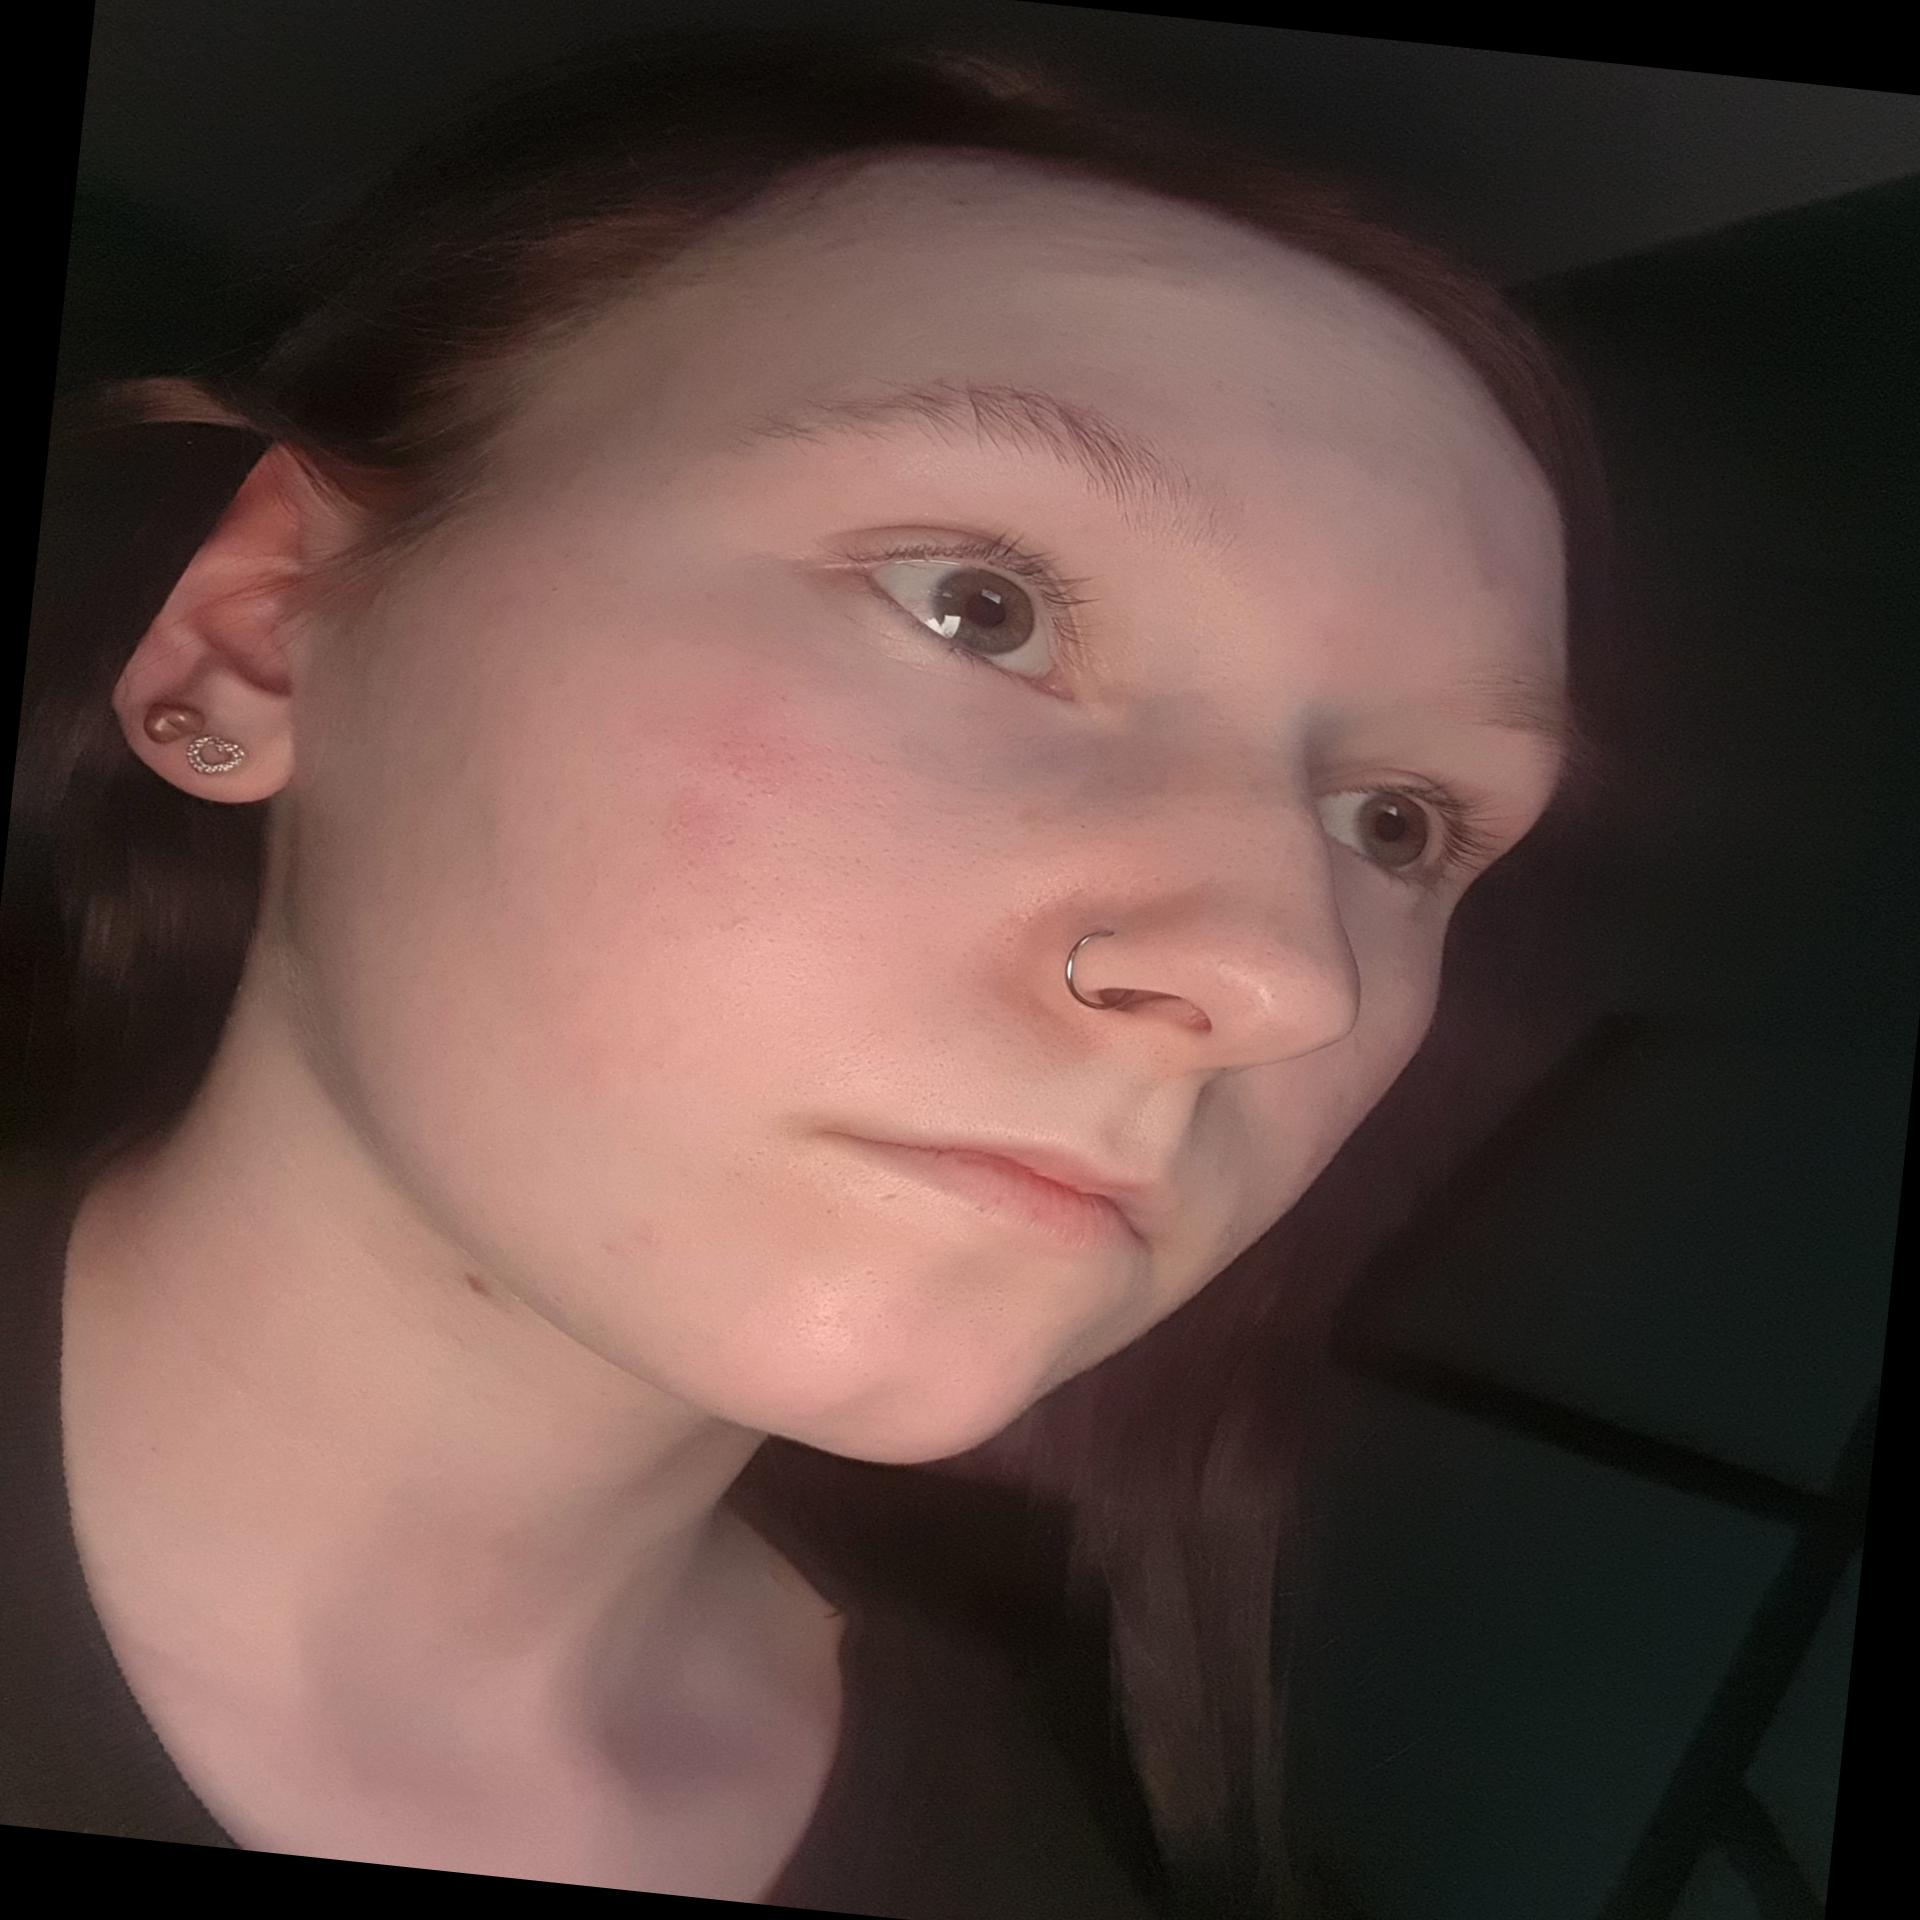Acne: (585, 1208, 663, 1271), (1129, 248, 1196, 288), (918, 178, 974, 223), (1470, 570, 1514, 600)
Englarged Pores: (636, 686, 1002, 1002), (777, 1254, 1034, 1407), (1162, 828, 1320, 986), (707, 1120, 788, 1197), (1000, 860, 1101, 921), (983, 918, 1036, 974)
